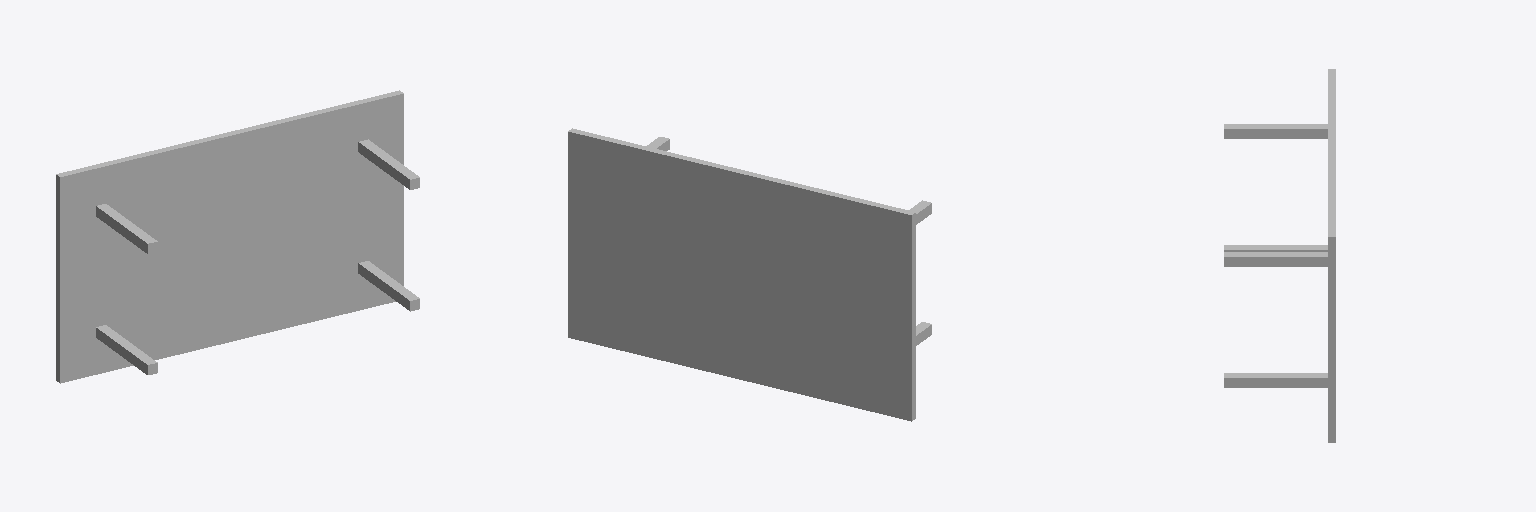
The model's file is random_table27.obj.
The picture shows the model from 3 angles: view 1: azimuth 30°, elevation 25°; view 2: azimuth 150°, elevation 25°; view 3: azimuth 270°, elevation 25°; orthographic projection.
Parts seen in each view (by area): view 1: Table_Cube.330, TableLeg2_Cube.333, TableLeg1_Cube.332, TableLeg0_Cube.331, TableLeg3_Cube.334; view 2: Table_Cube.330; view 3: Table_Cube.330, TableLeg0_Cube.331, TableLeg1_Cube.332, TableLeg2_Cube.333, TableLeg3_Cube.334.
Part boxes in pixels (left/top/right/bottom): Table_Cube.330: left=56, top=90, right=403, bottom=383; TableLeg2_Cube.333: left=358, top=261, right=419, bottom=311; TableLeg1_Cube.332: left=96, top=204, right=157, bottom=253; TableLeg0_Cube.331: left=358, top=139, right=419, bottom=189; TableLeg3_Cube.334: left=96, top=325, right=157, bottom=374; Table_Cube.330: left=568, top=128, right=915, bottom=421; Table_Cube.330: left=1328, top=69, right=1335, bottom=442; TableLeg0_Cube.331: left=1224, top=252, right=1327, bottom=266; TableLeg1_Cube.332: left=1224, top=124, right=1327, bottom=138; TableLeg2_Cube.333: left=1224, top=373, right=1327, bottom=387; TableLeg3_Cube.334: left=1224, top=245, right=1327, bottom=251.
Bounding box in the file's own units: 8.08 × 4.63 × 2.28.